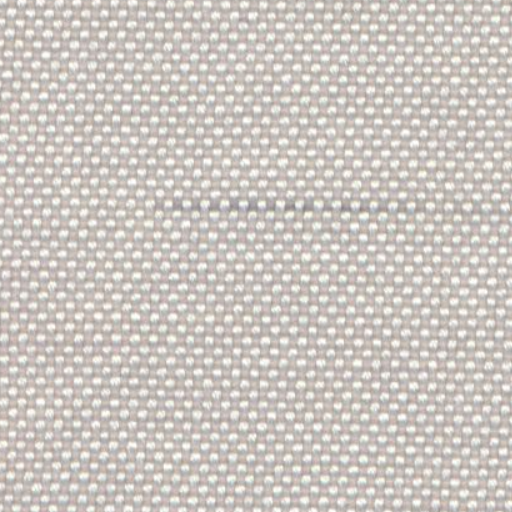WuZi: (160, 194, 421, 218)
